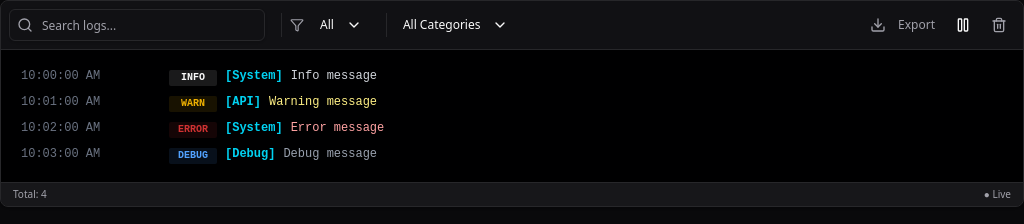
it: LogViewer › Category Selection › should clear category filter when badge X is clicked
# First select a category
Click the button "All Categories": (456, 25) [395,13,516,37]
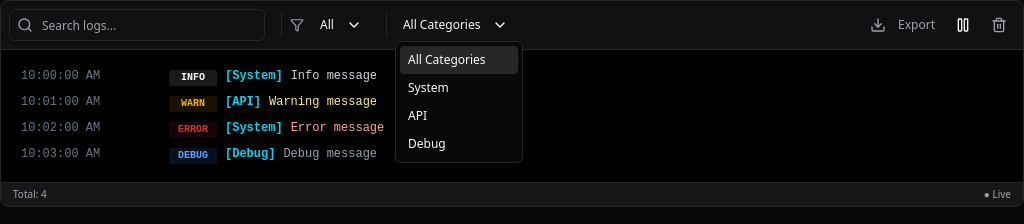
Click the menu item "System": (428, 88) [408,79,449,96]
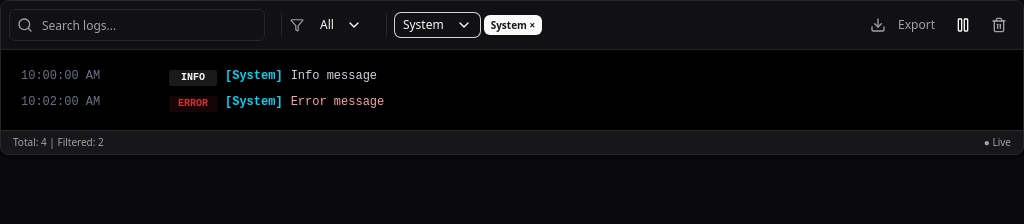
# Click the badge to clear
Click the text "System ×": (513, 25) [484,15,542,35]
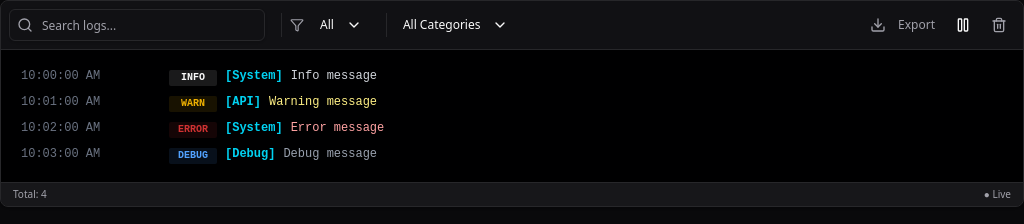
Expected: the button "All Categories" is shown, [395,13,516,37]
